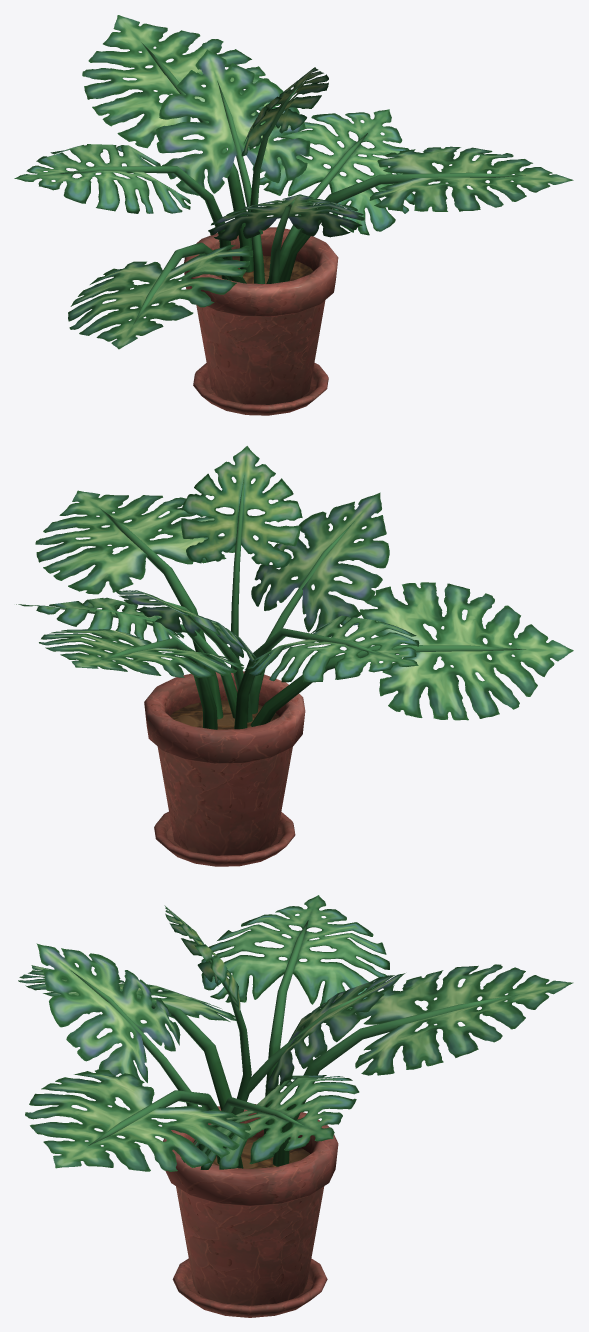
The model's file is Plant_House_Plant_01_Material_0.fbx.
The picture shows the model from 3 angles, top to bottom: view 1: azimuth 30°, elevation 25°; view 2: azimuth 150°, elevation 25°; view 3: azimuth 270°, elevation 25°; orthographic projection. The views are drawn at different scales.
Visible parts, largest first — view 1: Plant_House Plant 01 Material_0; view 2: Plant_House Plant 01 Material_0; view 3: Plant_House Plant 01 Material_0.
Boxes of the visible parts, left/top/right/bottom form: Plant_House Plant 01 Material_0: left=14, top=15, right=573, bottom=415; Plant_House Plant 01 Material_0: left=16, top=446, right=573, bottom=866; Plant_House Plant 01 Material_0: left=18, top=895, right=573, bottom=1317.
Bounding box in the file's own units: 112 × 79.81 × 103.
